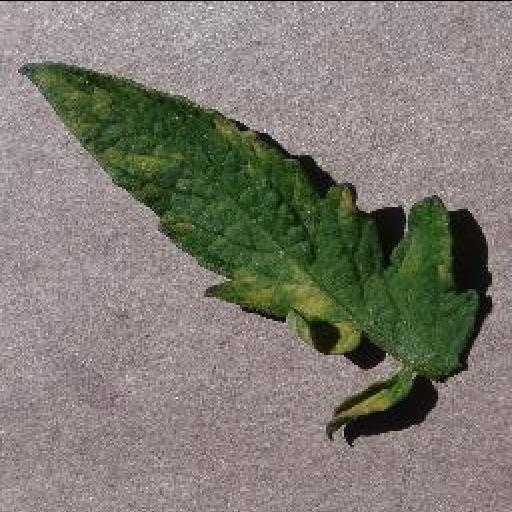disease_tomato: (20, 61, 482, 430)
